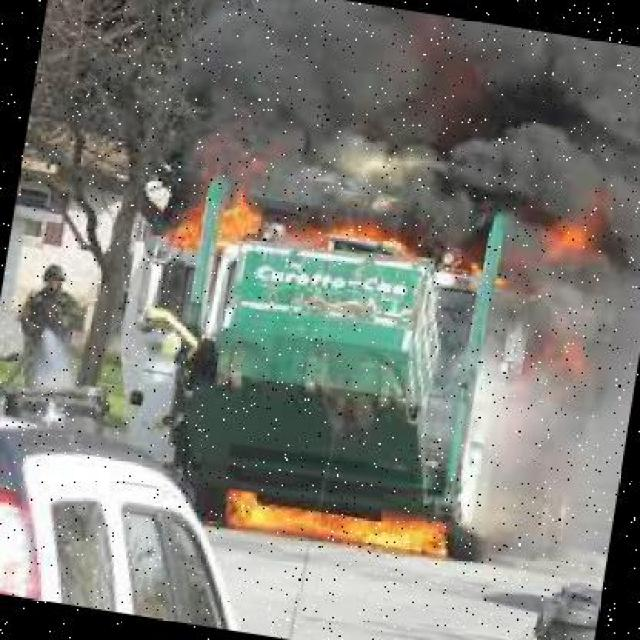fire: (498, 170, 638, 404), (202, 457, 469, 574), (306, 183, 531, 309), (161, 168, 274, 275)
